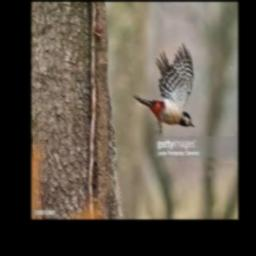Woodpecker: (133, 43, 195, 134)
